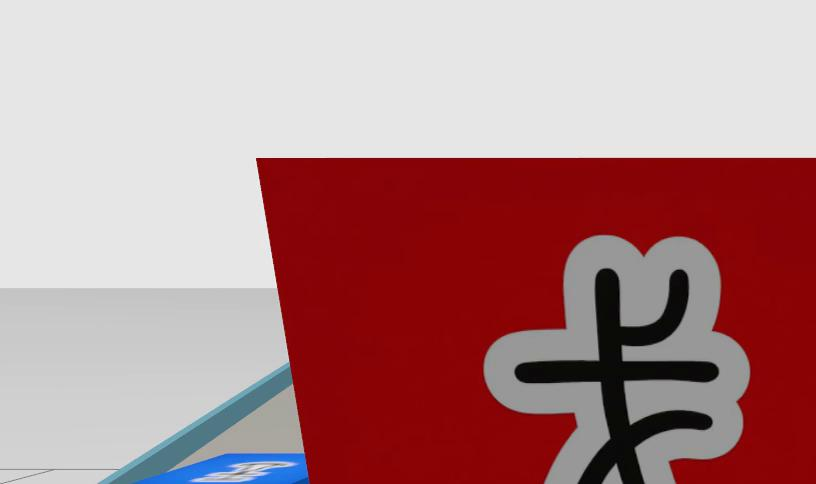KFS_FAKE: (259, 159, 816, 484), (484, 236, 748, 484)
KFS_REAL: (127, 453, 309, 484), (192, 462, 293, 482)
